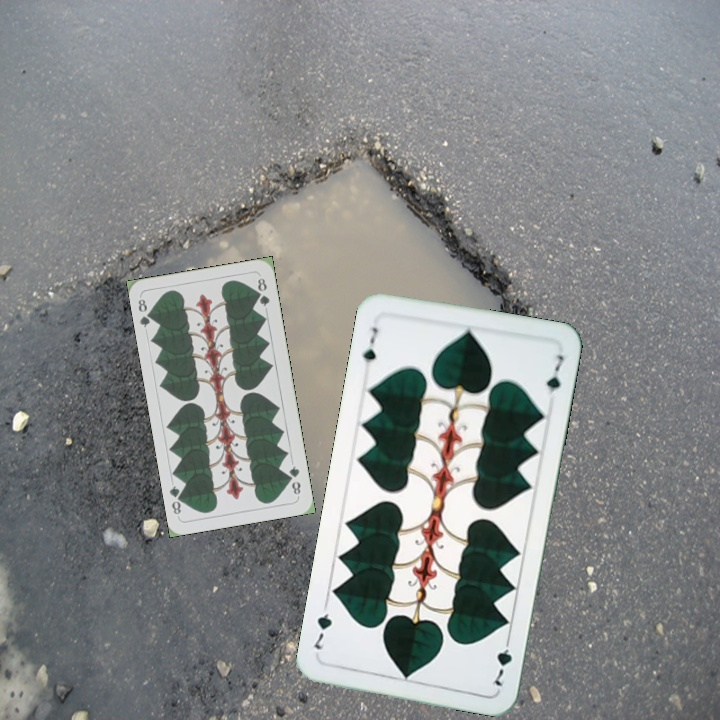G7: (490, 632, 515, 689), (359, 323, 381, 373)
G8: (134, 295, 156, 330), (285, 462, 303, 497)
